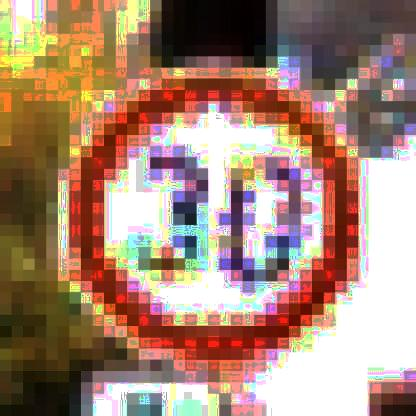Speed Limit -30-: (53, 62, 360, 362)
